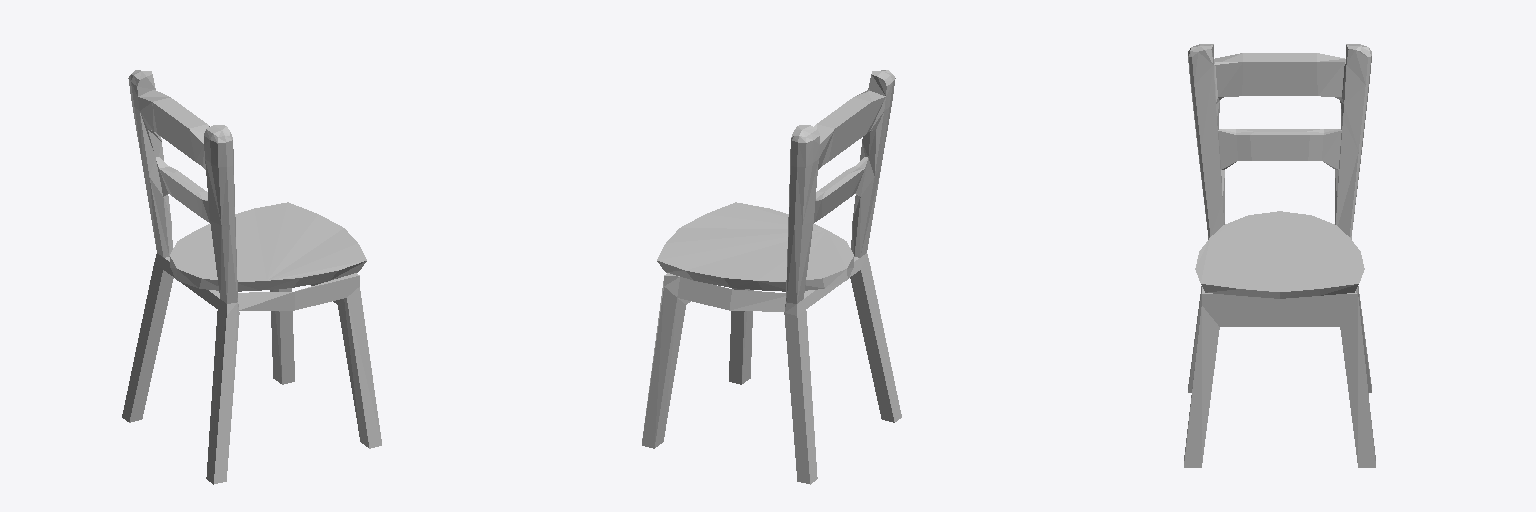
Rendered from chair.obj.
3 views of the same model, side by side, from view 1: azimuth 30°, elevation 25°; view 2: azimuth 150°, elevation 25°; view 3: azimuth 270°, elevation 25° (orthographic).
Parts seen in each view (by area): view 1: chair_chair_auv; view 2: chair_chair_auv; view 3: chair_chair_auv.
Part boxes in pixels (bbox=[...]): chair_chair_auv: bbox=[122, 70, 381, 484]; chair_chair_auv: bbox=[642, 70, 901, 484]; chair_chair_auv: bbox=[1184, 44, 1375, 467].
Size of the model in its own units: 6.77 by 12.72 by 6.39.